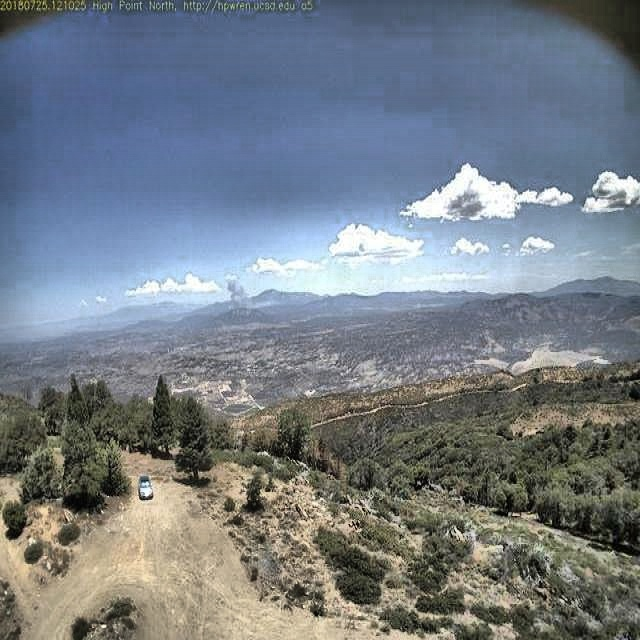smoke: (220, 272, 256, 323)
